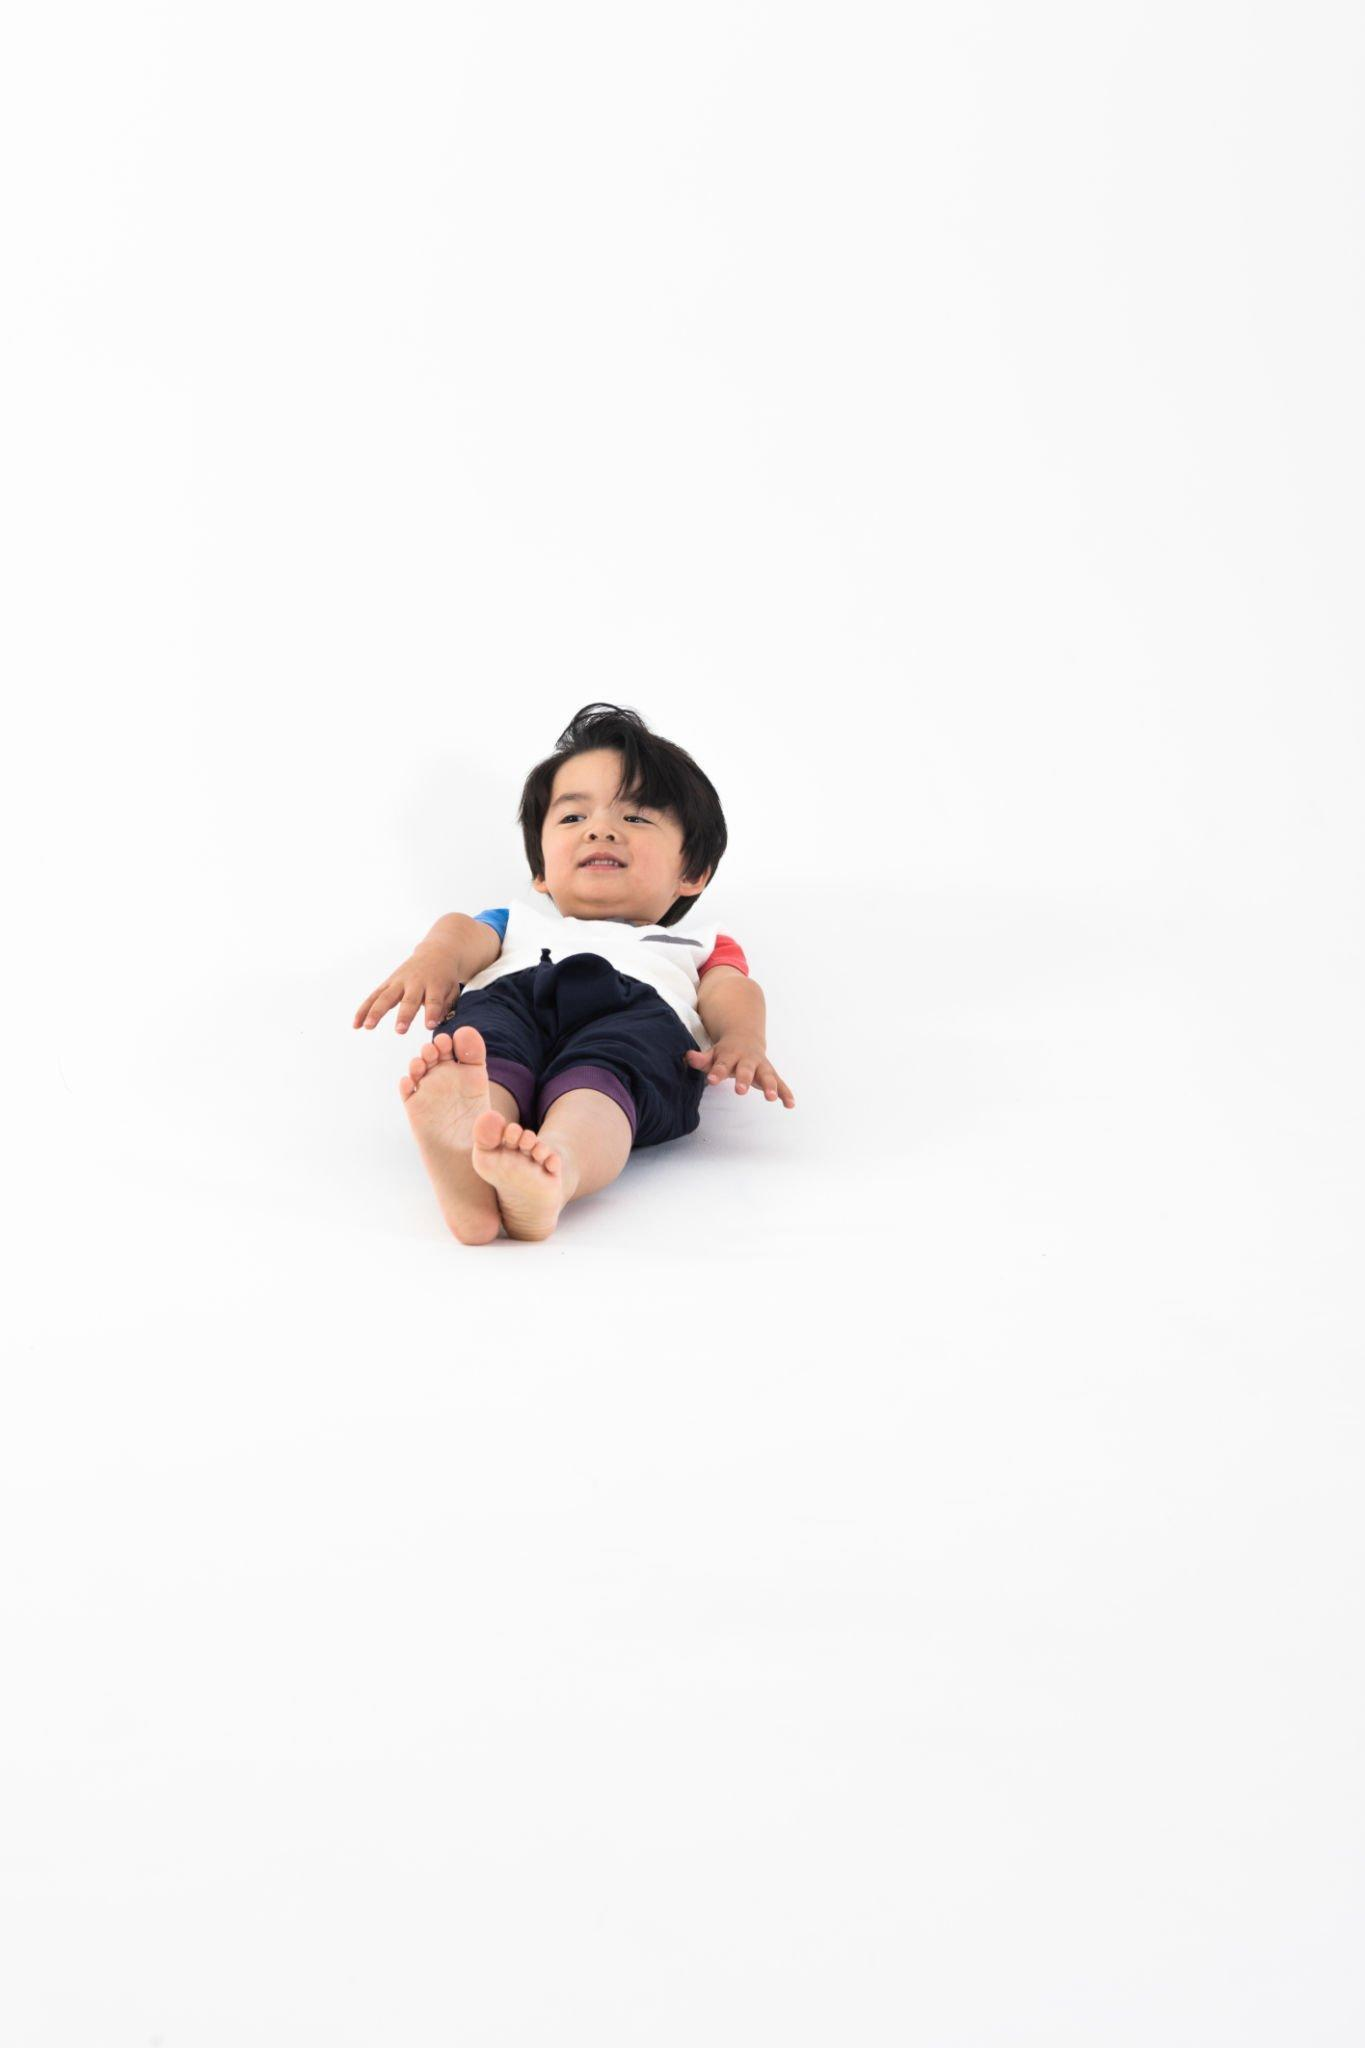Healthy: (536, 691, 713, 929)
